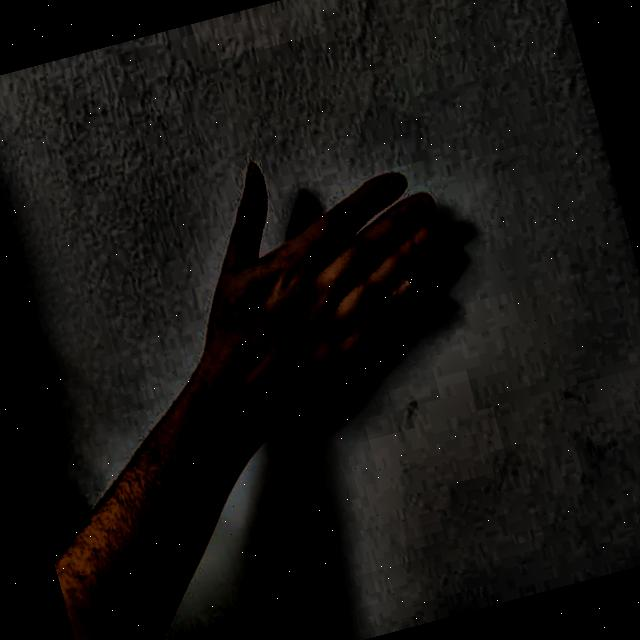Aa: (157, 100, 514, 476)
